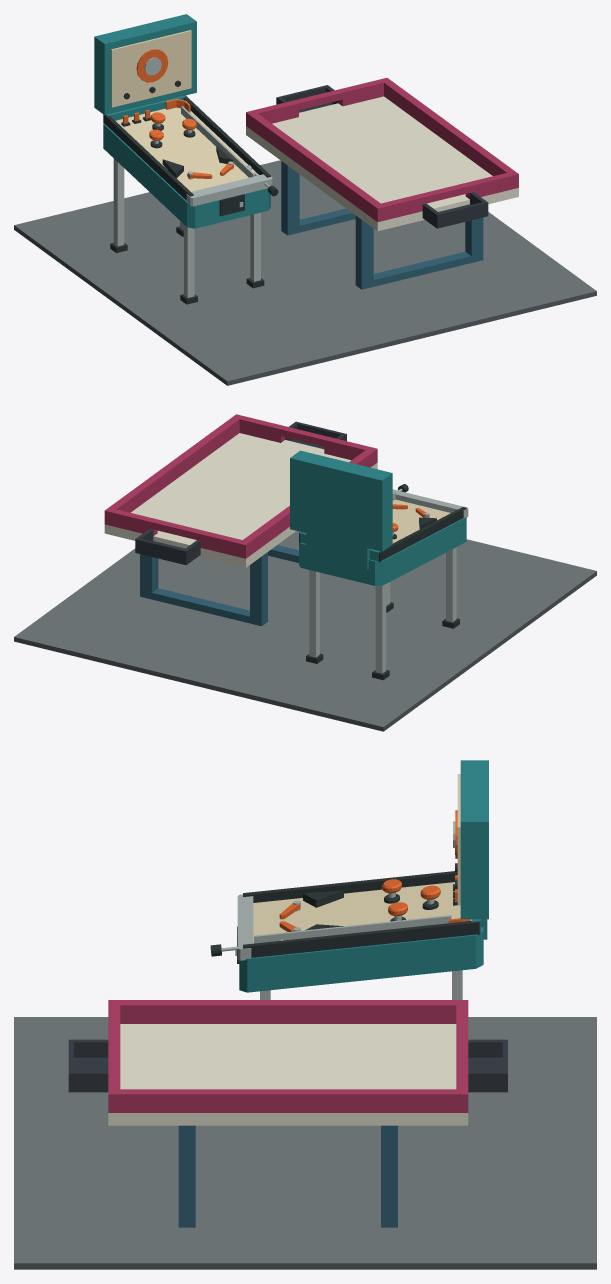
3 renders of one model, top to bottom at view 1: azimuth 30°, elevation 25°; view 2: azimuth 150°, elevation 25°; view 3: azimuth 270°, elevation 25°, orthographic. The views are drawn at different scales.
Parts seen in each view (by area): view 1: SCENE_ONLY__TableGamesFloor, puck__ThickContinuousPlayingBed, pinball__Playfield_SlopedFloor, pinball__Backbox_IvoryFace, pinball__Cabinet_TaperedBody, pinball__Backbox_Housing, puck__Front_PortalTrestle, puck__Left_LongSideRail, puck__Right_LongSideRail, puck__Front_ContinuousOpenGoalFrame, puck__Back_PortalTrestle, puck__Back_ContinuousOpenGoalFrame (+11 smaller); view 2: SCENE_ONLY__TableGamesFloor, puck__ThickContinuousPlayingBed, pinball__Backbox_Housing, pinball__Cabinet_TaperedBody, puck__Back_PortalTrestle, puck__Right_LongSideRail, puck__Back_ContinuousOpenGoalFrame, puck__Front_ContinuousOpenGoalFrame, puck__Left_LongSideRail, pinball__Backbox_Riser, puck__Back_OpenReturnTrough, pinball__Leg_RearLeft (+6 smaller); view 3: SCENE_ONLY__TableGamesFloor, puck__ThickContinuousPlayingBed, puck__Right_LongSideRail, pinball__Cabinet_TaperedBody, puck__Left_LongSideRail, pinball__Playfield_SlopedFloor, pinball__Backbox_Housing, pinball__SideRail_Right, puck__Front_OpenReturnTrough, puck__Back_OpenReturnTrough, pinball__SideRail_Left, puck__Front_PortalTrestle (+5 smaller).
Part boxes in pixels (box(x1,y1,x2,y2)): SCENE_ONLY__TableGamesFloor: box(14, 160, 596, 385); puck__ThickContinuousPlayingBed: box(246, 96, 518, 231); pinball__Playfield_SlopedFloor: box(115, 107, 258, 191); pinball__Backbox_IvoryFace: box(111, 30, 191, 107); pinball__Cabinet_TaperedBody: box(103, 123, 270, 228); pinball__Backbox_Housing: box(94, 14, 196, 114); puck__Front_PortalTrestle: box(355, 215, 483, 289); puck__Left_LongSideRail: box(246, 110, 385, 222); puck__Right_LongSideRail: box(380, 78, 518, 189); puck__Front_ContinuousOpenGoalFrame: box(381, 173, 511, 220); puck__Back_PortalTrestle: box(281, 161, 355, 235); puck__Back_ContinuousOpenGoalFrame: box(254, 79, 383, 123); SCENE_ONLY__TableGamesFloor: box(14, 531, 596, 731); puck__ThickContinuousPlayingBed: box(104, 433, 377, 567); pinball__Backbox_Housing: box(290, 450, 392, 551); pinball__Cabinet_TaperedBody: box(299, 517, 466, 585); puck__Back_PortalTrestle: box(140, 552, 267, 626); puck__Right_LongSideRail: box(104, 414, 243, 525); puck__Back_ContinuousOpenGoalFrame: box(112, 509, 242, 556); puck__Front_ContinuousOpenGoalFrame: box(239, 416, 369, 460); puck__Left_LongSideRail: box(238, 447, 377, 558); pinball__Backbox_Riser: box(306, 533, 370, 569); puck__Back_OpenReturnTrough: box(135, 528, 200, 565); pinball__Leg_RearLeft: box(375, 584, 386, 673); SCENE_ONLY__TableGamesFloor: box(14, 1017, 596, 1269); puck__ThickContinuousPlayingBed: box(108, 1024, 468, 1125); puck__Right_LongSideRail: box(108, 1089, 468, 1112); pinball__Cabinet_TaperedBody: box(239, 927, 483, 992); puck__Left_LongSideRail: box(108, 1000, 468, 1023); pinball__Playfield_SlopedFloor: box(253, 882, 471, 943); pinball__Backbox_Housing: box(460, 760, 488, 919); pinball__SideRail_Right: box(243, 921, 479, 957); puck__Front_OpenReturnTrough: box(68, 1039, 108, 1092); puck__Back_OpenReturnTrough: box(468, 1039, 507, 1092); pinball__SideRail_Left: box(243, 871, 457, 902); puck__Front_PortalTrestle: box(178, 1125, 195, 1227).
Bounding box in the file's own units: 3.4 × 1.87 × 3.4.
